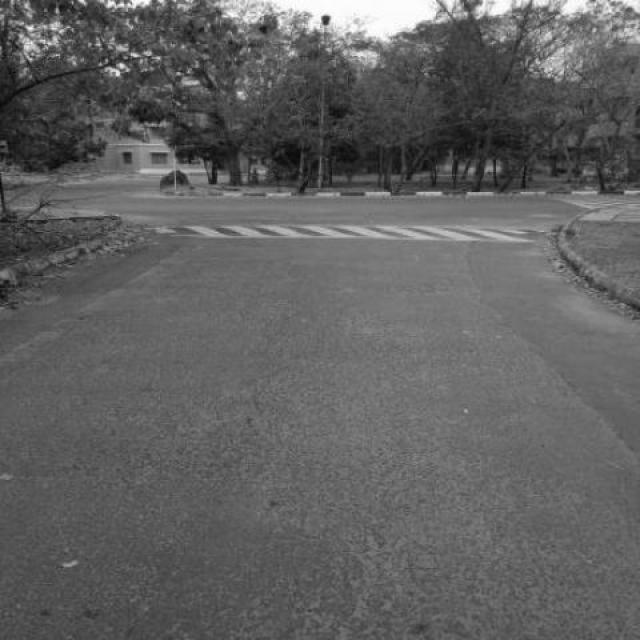Speed Bump: (140, 226, 555, 241)
